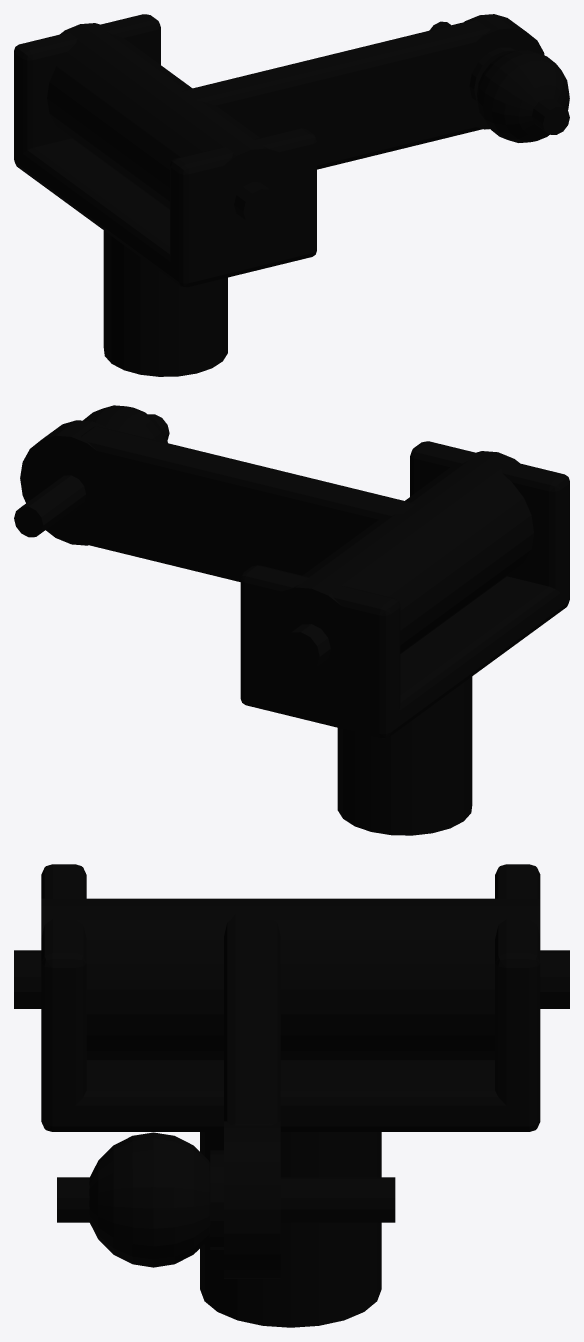
The model's file is knuckle_fr.obj.
3 renders of one model, top to bottom at view 1: azimuth 30°, elevation 25°; view 2: azimuth 150°, elevation 25°; view 3: azimuth 270°, elevation 25°, orthographic. The views are drawn at different scales.
Bounding box in the file's own units: 0.0316 × 0.0187 × 0.0245.
1 material, 1 textured.
